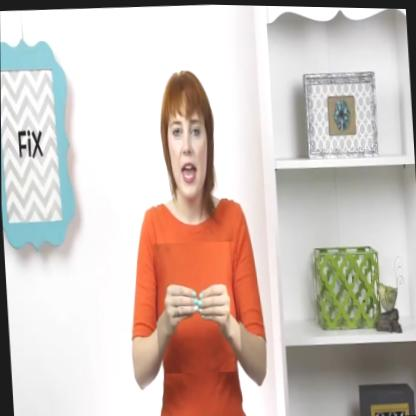Fix: (151, 239, 242, 374)
